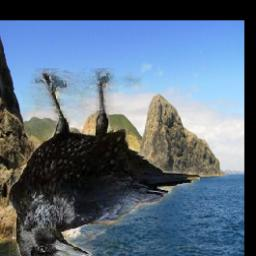Crow: (9, 68, 200, 256)
